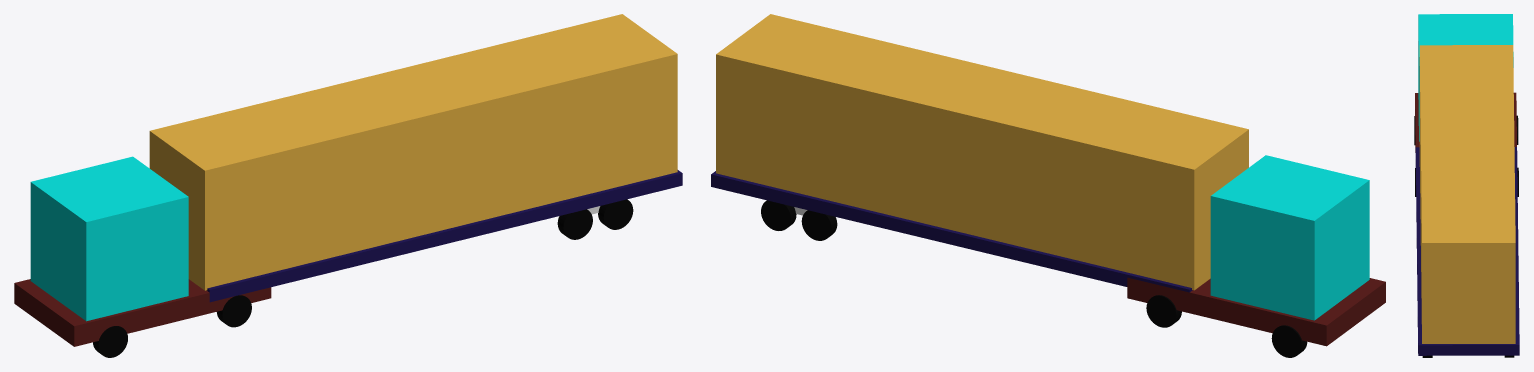
The model's file is Truck2.gltf.
3 renders of one model, left to right at view 1: azimuth 30°, elevation 25°; view 2: azimuth 150°, elevation 25°; view 3: azimuth 270°, elevation 25°, orthographic. The views are drawn at different scales.
Parts seen in each view (by area): view 1: Cube.004, Cube.002, Cube, Cube.001, Cylinder.006, Cylinder.005, Cylinder.001, Cylinder; view 2: Cube.004, Cube.002, Cube, Cube.001, Cylinder.002, Cylinder.003, Cylinder.007, Cylinder.004; view 3: Cube.004, Cube.002, Cube, Cube.001.
Boxes of the visible parts, left/top/right/bottom form: Cube.004: left=149, top=14, right=677, bottom=290; Cube.002: left=30, top=156, right=188, bottom=321; Cube: left=207, top=170, right=682, bottom=302; Cube.001: left=14, top=279, right=271, bottom=346; Cylinder.006: left=557, top=209, right=592, bottom=239; Cylinder.005: left=598, top=199, right=633, bottom=229; Cylinder.001: left=217, top=295, right=251, bottom=327; Cylinder: left=93, top=326, right=127, bottom=357; Cube.004: left=716, top=14, right=1248, bottom=290; Cube.002: left=1210, top=155, right=1369, bottom=320; Cube: left=711, top=171, right=1192, bottom=292; Cube.001: left=1127, top=277, right=1385, bottom=346; Cylinder.002: left=1146, top=295, right=1181, bottom=327; Cylinder.003: left=1271, top=325, right=1307, bottom=357; Cylinder.007: left=801, top=210, right=837, bottom=240; Cylinder.004: left=761, top=200, right=796, bottom=230; Cube.004: left=1419, top=45, right=1515, bottom=343; Cube.002: left=1418, top=14, right=1513, bottom=141; Cube: left=1415, top=147, right=1519, bottom=355; Cube.001: left=1415, top=92, right=1516, bottom=152.
Size of the model in its own units: 30.91 by 7.81 by 5.4.
